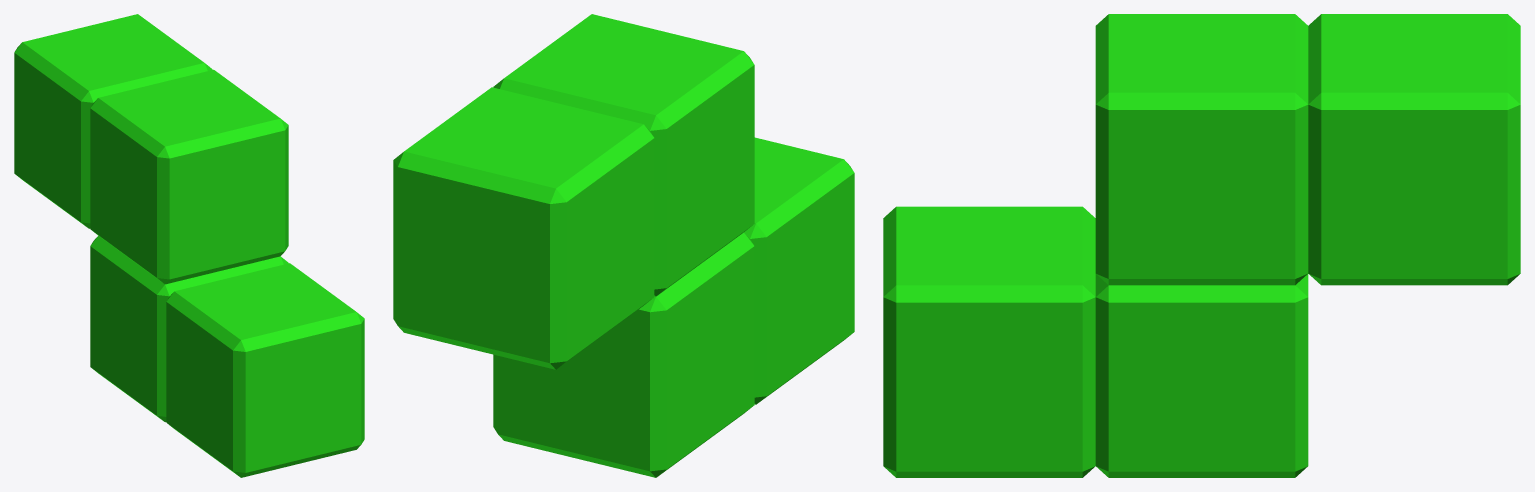
File: TetriminoS.fbx
3 views of the same model, side by side, from view 1: azimuth 30°, elevation 25°; view 2: azimuth 150°, elevation 25°; view 3: azimuth 270°, elevation 25° (orthographic). The views are drawn at different scales.
Visible parts, largest first — view 1: Cube.002, Cube.001, Cube.003, Cube.000; view 2: Cube.003, Cube.000, Cube.002, Cube.001; view 3: Cube.002, Cube.001, Cube.003, Cube.000.
Part boxes in pixels (left/top/right/bottom): Cube.002: left=90, top=69, right=288, bottom=284; Cube.001: left=166, top=263, right=364, bottom=477; Cube.003: left=14, top=14, right=212, bottom=228; Cube.000: left=90, top=236, right=288, bottom=422; Cube.003: left=393, top=87, right=654, bottom=369; Cube.000: left=493, top=232, right=754, bottom=477; Cube.002: left=493, top=14, right=754, bottom=296; Cube.001: left=744, top=137, right=854, bottom=404; Cube.002: left=1095, top=14, right=1308, bottom=285; Cube.001: left=883, top=206, right=1095, bottom=477; Cube.003: left=1308, top=14, right=1520, bottom=285; Cube.000: left=1095, top=274, right=1308, bottom=477.
Size of the model in its own units: 200 by 400 by 600.
